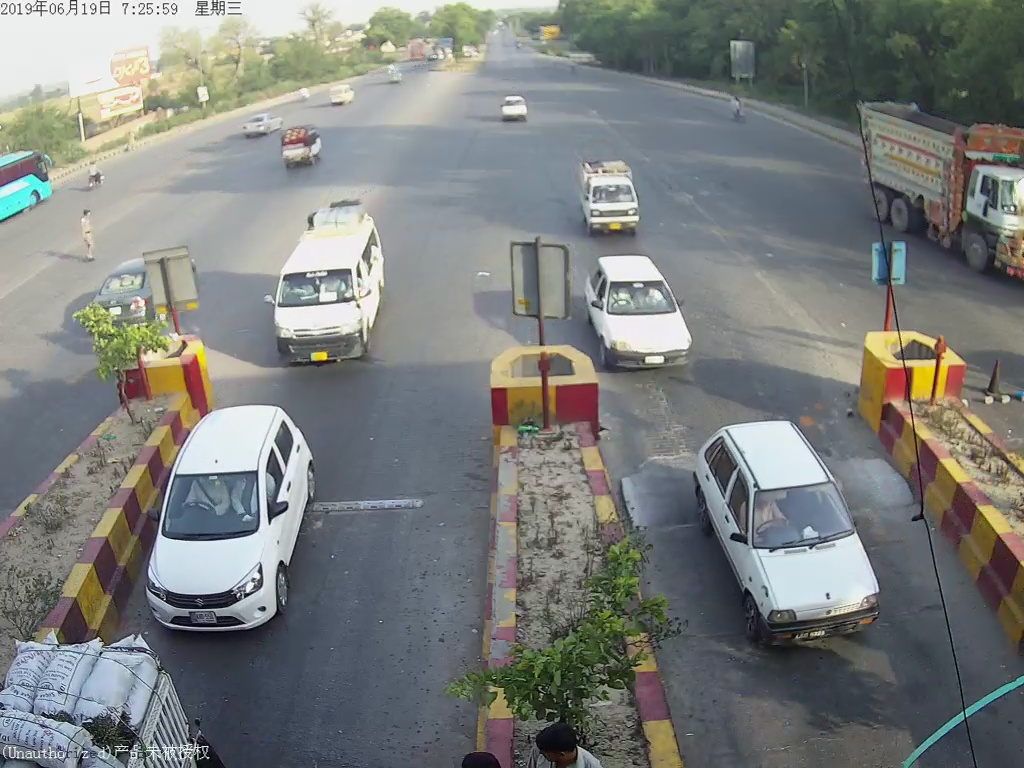Cat-1: (697, 416, 892, 659), (146, 402, 326, 641), (581, 247, 709, 372), (576, 153, 653, 243)
Cat-2: (264, 200, 398, 376)
